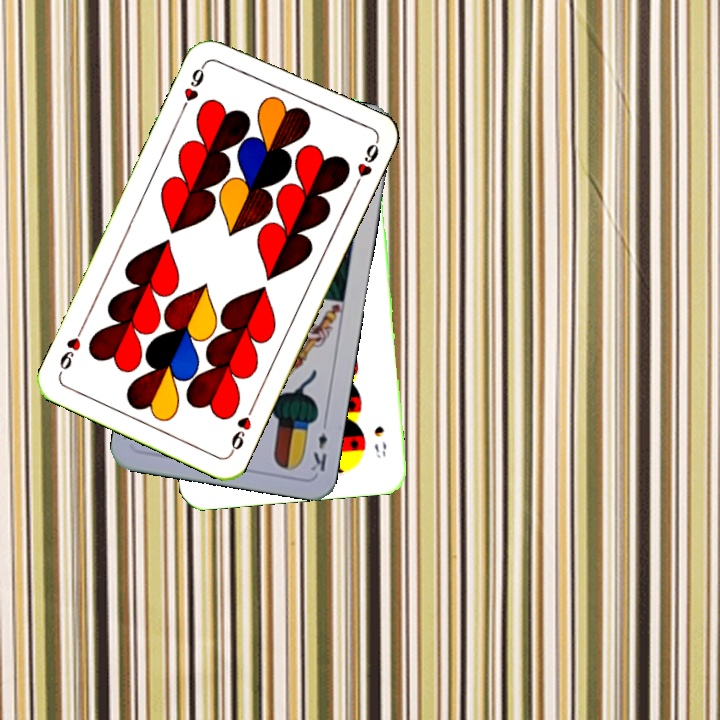EK: (306, 415, 330, 474)
H9: (177, 58, 209, 114), (226, 401, 257, 457)
S8: (370, 422, 389, 461)
